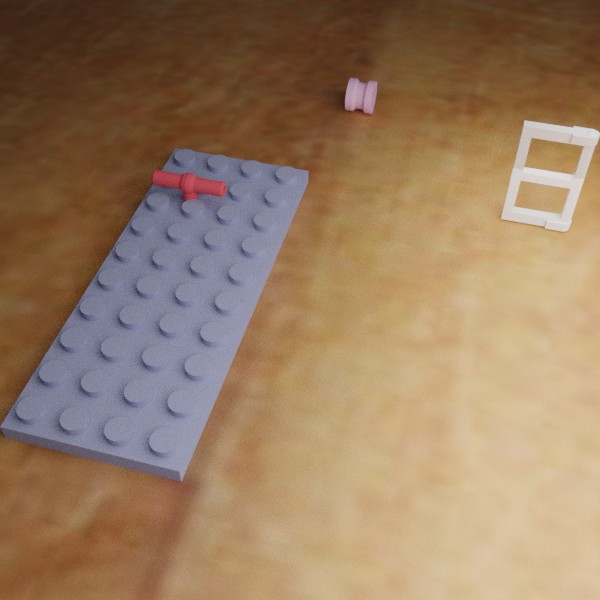lego: (0, 148, 308, 481), (501, 120, 599, 231), (151, 169, 226, 215), (344, 77, 377, 114)
